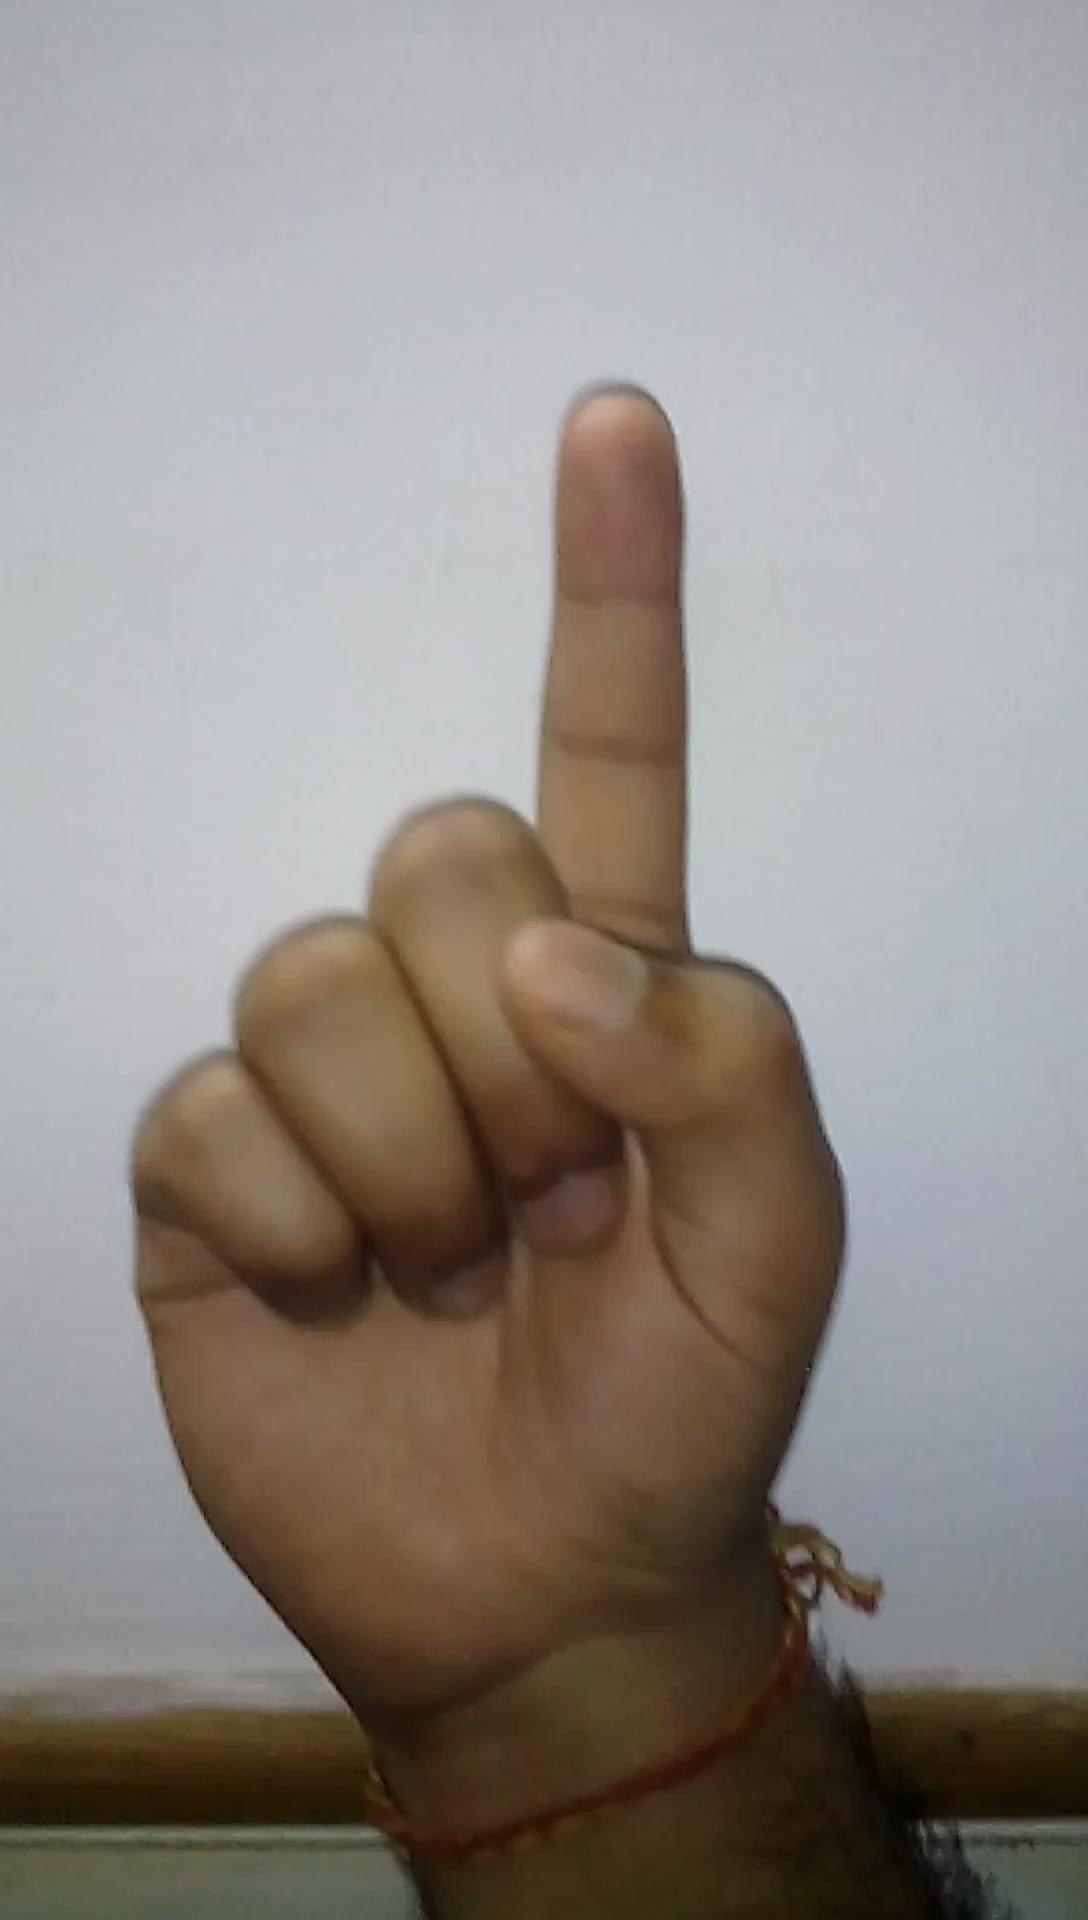I: (127, 367, 850, 1646)
